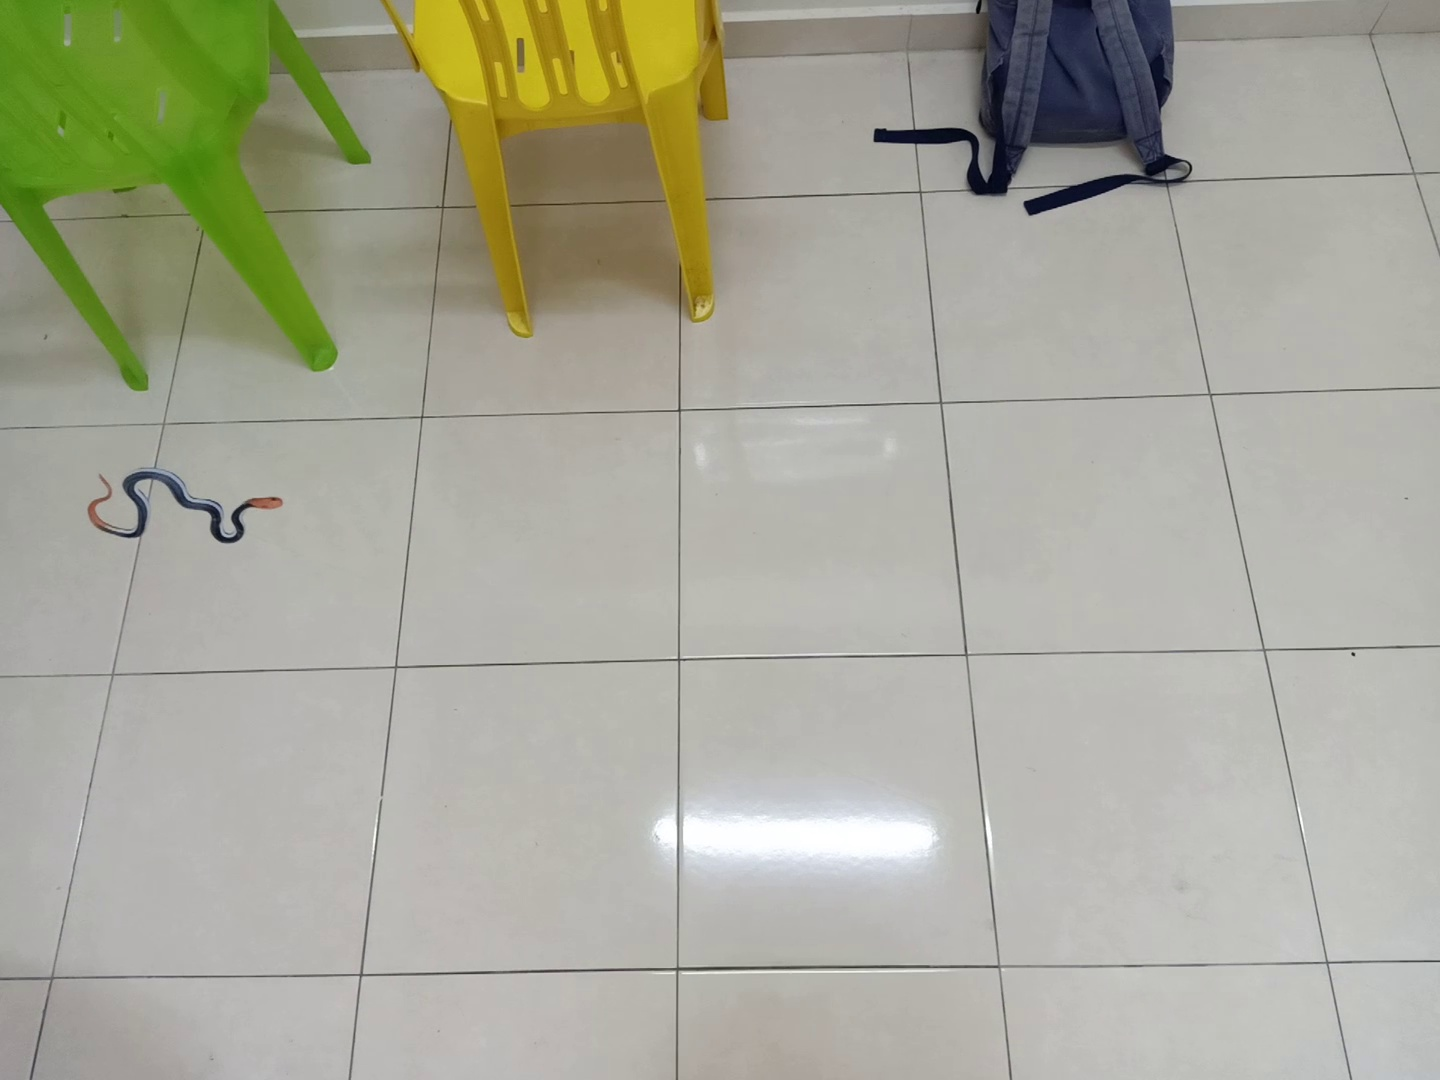snake: (79, 463, 290, 550)
